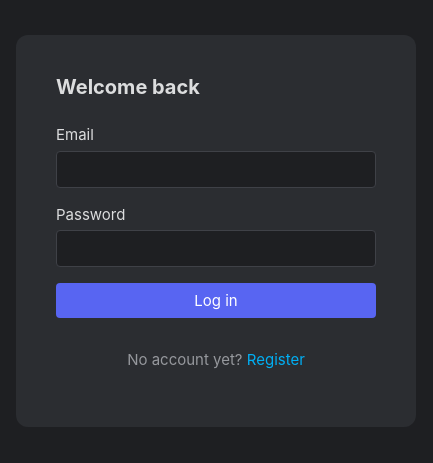
LoginPage › shows inline error for wrong password
Type "alice@example.com" into the field labelled "Email" at coordinates (216, 169), box [56, 151, 376, 188]
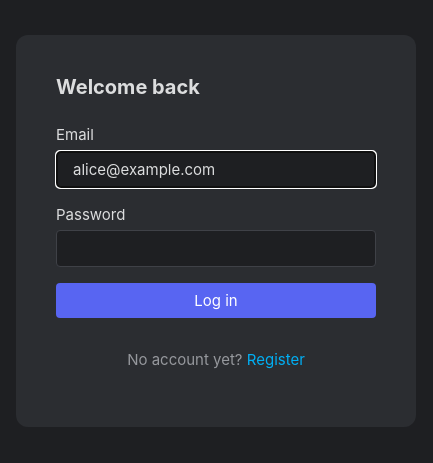
Type "wrongpass" into the password field labelled "Password" at coordinates (216, 249), box [56, 230, 376, 267]
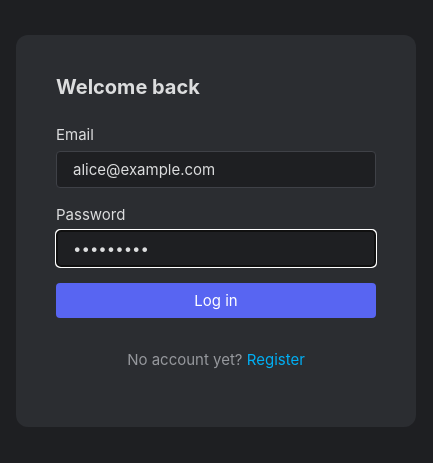
Click the button "Log in" at coordinates (216, 301), box [56, 283, 376, 318]
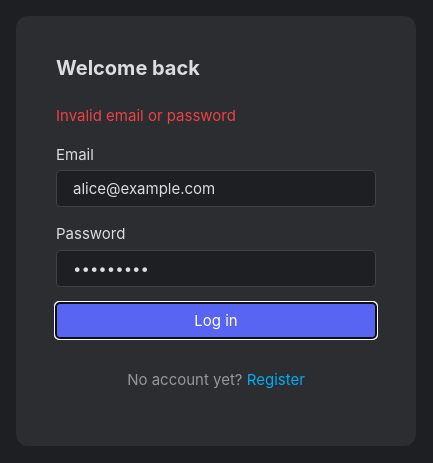
Expected: the message reads "Invalid email or password", [56, 106, 236, 125]
